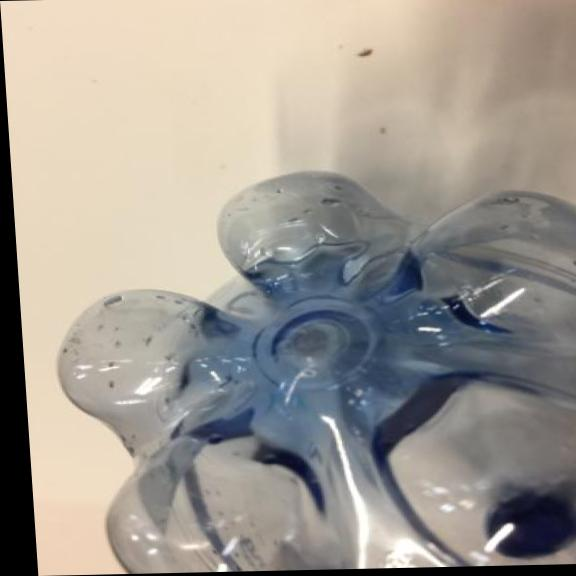Plastik: (30, 157, 576, 576)
